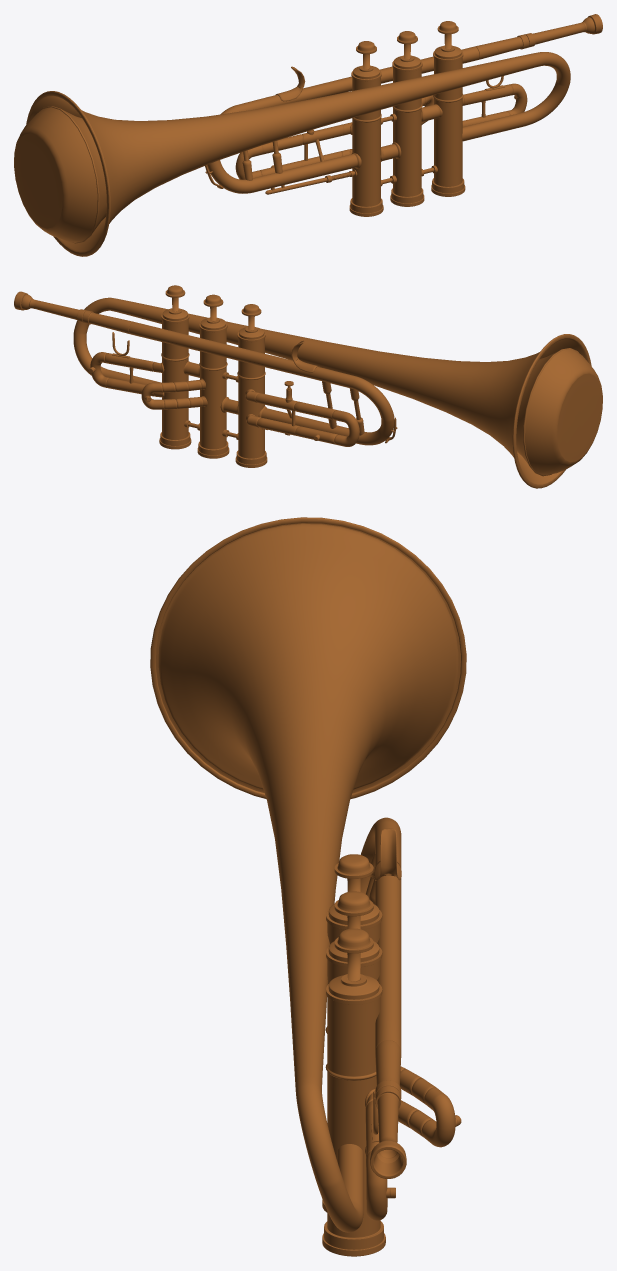
File: Trumpet with damper.FBX
The picture shows the model from 3 angles, top to bottom: view 1: azimuth 30°, elevation 25°; view 2: azimuth 150°, elevation 25°; view 3: azimuth 270°, elevation 25°; orthographic projection. The views are drawn at different scales.
Parts seen in each view (by area): view 1: Rectangle004; view 2: Rectangle004; view 3: Rectangle004.
Boxes of the visible parts, x1=… form: Rectangle004: x1=14, y1=14, x2=602, y2=256; Rectangle004: x1=14, y1=285, x2=602, y2=488; Rectangle004: x1=150, y1=517, x2=466, y2=1256.
Bounding box in the file's own units: 77.97 × 19.72 × 26.12.
